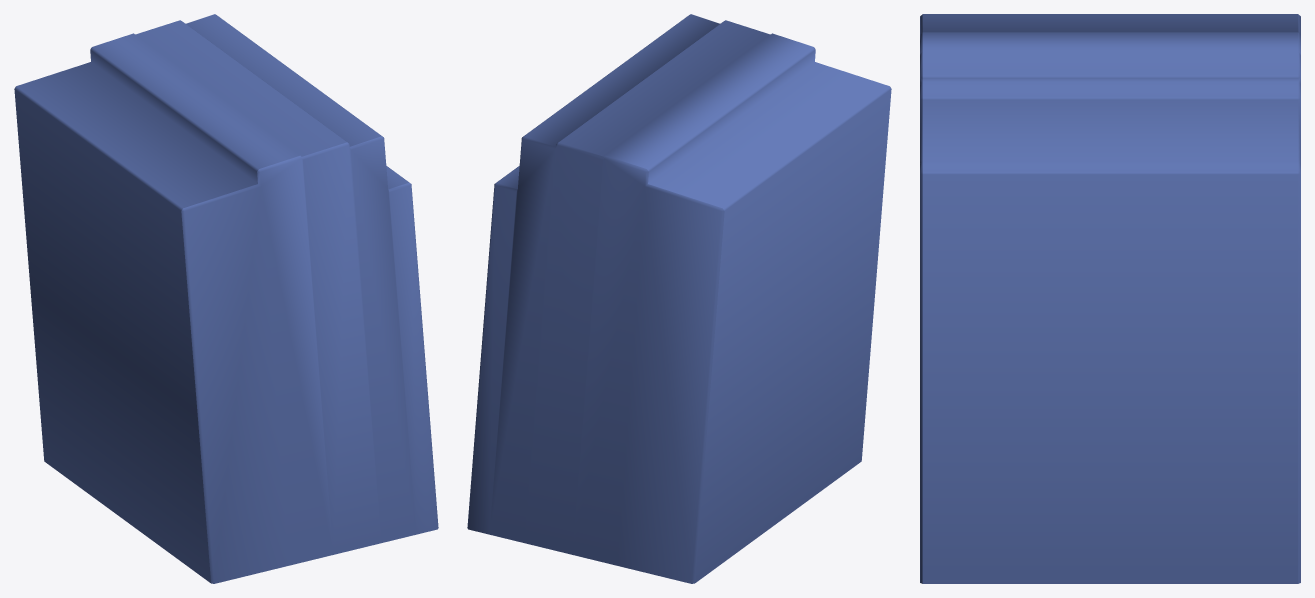
The model's file is Books_F.FBX.
3 renders of one model, left to right at view 1: azimuth 30°, elevation 25°; view 2: azimuth 150°, elevation 25°; view 3: azimuth 270°, elevation 25°, orthographic. The views are drawn at different scales.
Parts seen in each view (by area): view 1: Books_F; view 2: Books_F; view 3: Books_F.
Part boxes in pixels (bbox=[...]): Books_F: bbox=[14, 14, 438, 583]; Books_F: bbox=[467, 14, 891, 583]; Books_F: bbox=[920, 14, 1300, 583].
Size of the model in its own units: 17.69 by 26.82 by 20.16.
